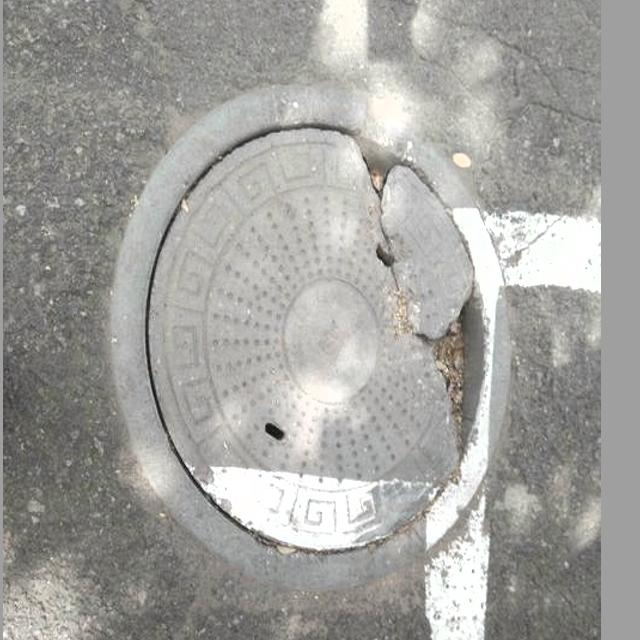broke: (92, 69, 522, 585)
